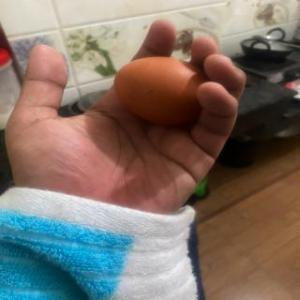egg: (116, 58, 212, 126)
